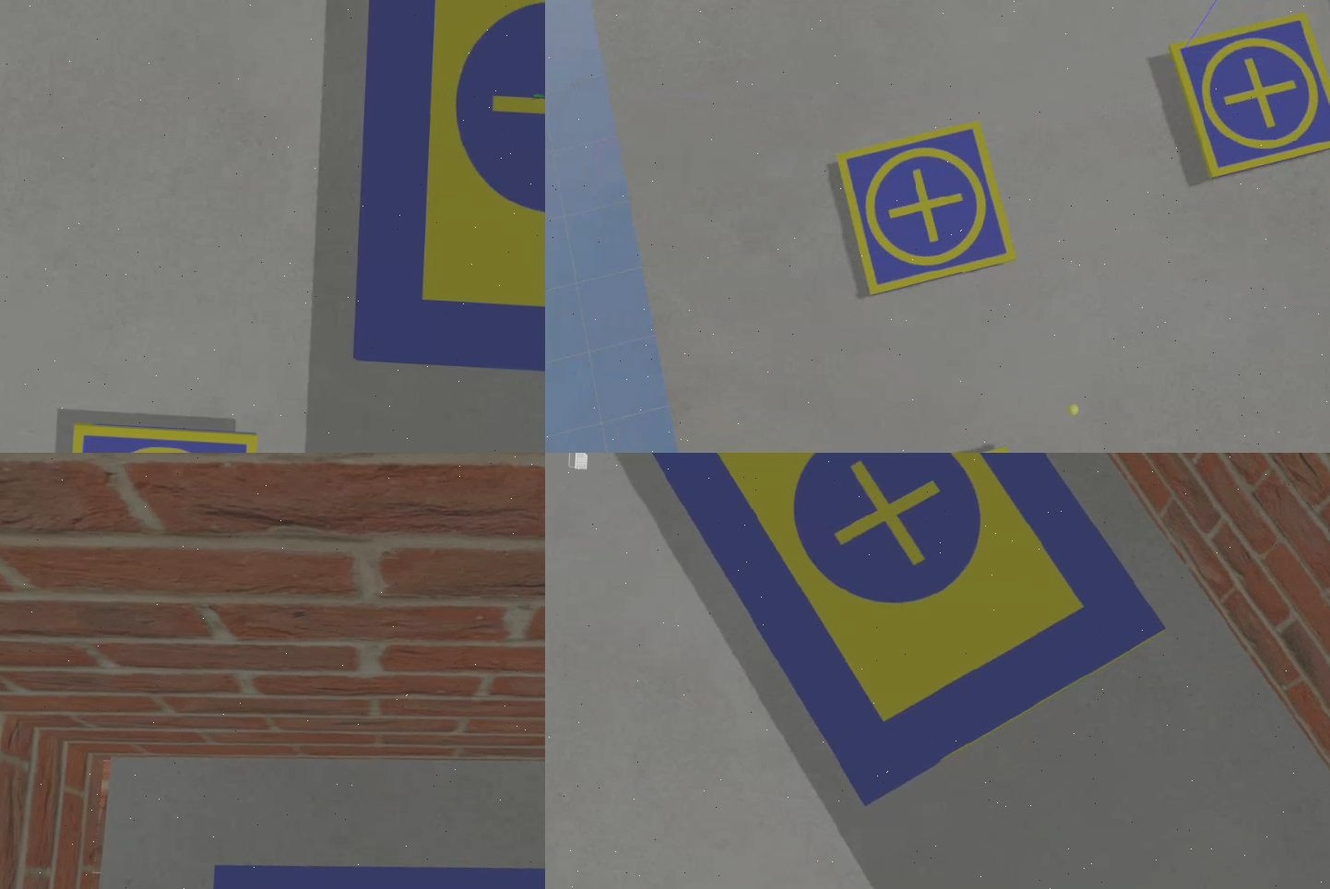large_base: (629, 454, 1179, 821), (350, 1, 545, 374)
small_base: (829, 120, 1029, 302), (1168, 14, 1330, 185), (64, 421, 257, 454)
